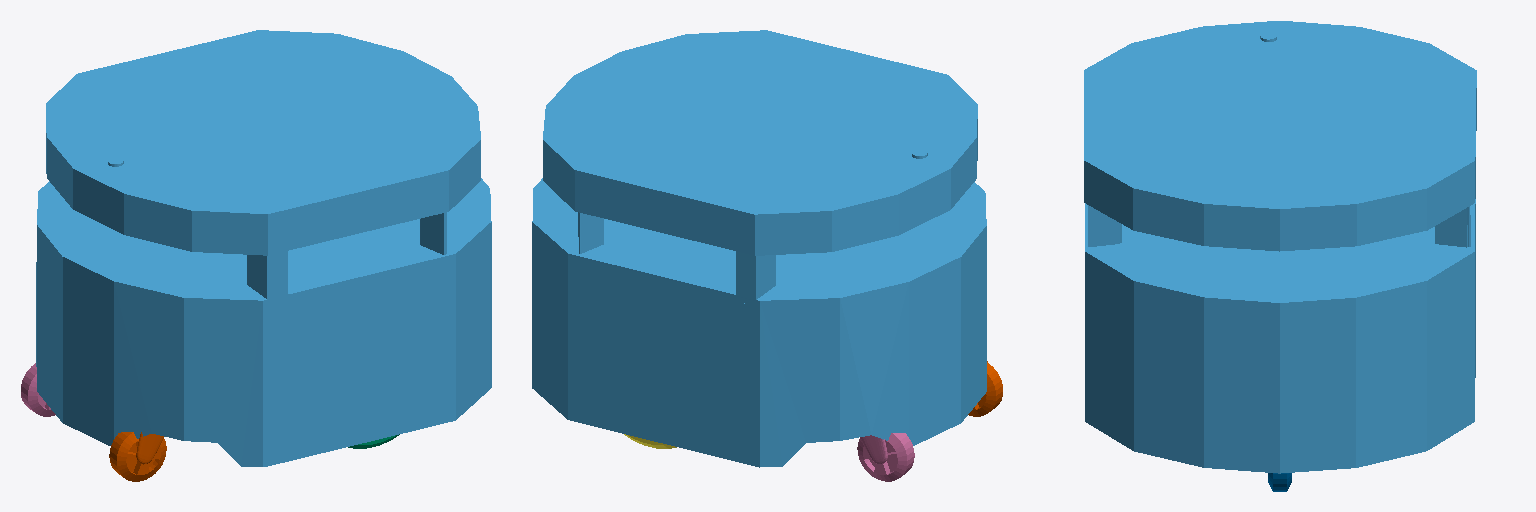
URDF robot description (patrolbot):
<?xml version="1.0" encoding="utf-8"?>
<!-- =================================================================================== -->
<!-- |    This document was autogenerated by xacro from patrolbot.xacro                | -->
<!-- |    EDITING THIS FILE BY HAND IS NOT RECOMMENDED                                 | -->
<!-- =================================================================================== -->
<robot name="patrolbot">
  <link name="base_footprint">
    </link>
  <joint name="base_footprint_joint" type="fixed">
    <origin rpy="0 0 0" xyz="0 0 0"/>
    <parent link="base_footprint"/>
    <child link="base_link"/>
  </joint>
  <link name="base_link">
    <inertial>
      <mass value="1"/>
      <origin rpy="0 0 0" xyz="0 0 0"/>
      <inertia ixx="0.001" ixy="0.0" ixz="0.001" iyy="1" iyz="0.0" izz="0.001"/>
    </inertial>
    <collision>
      <origin rpy="0 0 0" xyz="0 0 0"/>
      <geometry>
        <mesh filename="package://patrolbot_description/meshes/hull.stl"/>
      </geometry>
    </collision>
    <visual>
      <origin rpy="0 0 0" xyz="0 0 0"/>
      <geometry>
        <mesh filename="package://patrolbot_description/meshes/hull.stl"/>
      </geometry>
    </visual>
  </link>
  <link name="right_drive_wheel">
    <collision>
      <geometry>
        <mesh filename="package://patrolbot_description/meshes/right_wheel.stl"/>
      </geometry>
    </collision>
    <visual>
      <geometry>
        <mesh filename="package://patrolbot_description/meshes/right_wheel.stl"/>
      </geometry>
    </visual>
    <inertial>
      <mass value="1"/>
      <inertia ixx="0.001" ixy="0" ixz="0" iyy="0.001" iyz="0" izz="0.001"/>
    </inertial>
  </link>
  <joint name="right_drive_wheel_joint" type="continuous">
    <parent link="base_link"/>
    <child link="right_drive_wheel"/>
    <origin xyz="0.0685 -0.147 -0.138"/>
    <axis xyz="0 1 0"/>
    <dynamics damping="0.0" friction="0.0"/>
  </joint>
  <transmission name="right_drive_wheel_trans">
    <type>transmission_interface/SimpleTransmission</type>
    <joint name="right_drive_wheel_joint">
      <hardwareInterface>VelocityJointInterface</hardwareInterface>
    </joint>
    <actuator name="right_drive_wheel_motor">
      <mechanicalReducation>1</mechanicalReducation>
    </actuator>
  </transmission>
  <gazebo reference="right_drive_wheel">
    <mu1 value="200.0"/>
    <mu2 value="100.0"/>
    <kp value="10000000.0"/>
    <kd value="1.0"/>
  </gazebo>
  <link name="left_drive_wheel">
    <collision>
      <geometry>
        <mesh filename="package://patrolbot_description/meshes/left_wheel.stl"/>
      </geometry>
    </collision>
    <visual>
      <geometry>
        <mesh filename="package://patrolbot_description/meshes/left_wheel.stl"/>
      </geometry>
    </visual>
    <inertial>
      <mass value="1"/>
      <inertia ixx="0.001" ixy="0" ixz="0" iyy="0.001" iyz="0" izz="0.001"/>
    </inertial>
  </link>
  <joint name="left_drive_wheel_joint" type="continuous">
    <parent link="base_link"/>
    <child link="left_drive_wheel"/>
    <origin xyz="0.0685 0.147 -0.138"/>
    <axis xyz="0 1 0"/>
    <dynamics damping="0.0" friction="0.0"/>
  </joint>
  <transmission name="left_drive_wheel_trans">
    <type>transmission_interface/SimpleTransmission</type>
    <joint name="left_drive_wheel_joint">
      <hardwareInterface>VelocityJointInterface</hardwareInterface>
    </joint>
    <actuator name="left_drive_wheel_motor">
      <mechanicalReducation>1</mechanicalReducation>
    </actuator>
  </transmission>
  <gazebo reference="left_drive_wheel">
    <mu1 value="200.0"/>
    <mu2 value="100.0"/>
    <kp value="10000000.0"/>
    <kd value="1.0"/>
  </gazebo>
  <link name="front_caster_wheel">
    <collision>
      <geometry>
        <mesh filename="package://patrolbot_description/meshes/caster.stl"/>
      </geometry>
    </collision>
    <visual>
      <geometry>
        <mesh filename="package://patrolbot_description/meshes/caster.stl"/>
      </geometry>
    </visual>
    <inertial>
      <mass value="1"/>
      <inertia ixx="0.001" ixy="0" ixz="0" iyy="0.001" iyz="0" izz="0.001"/>
    </inertial>
  </link>
  <joint name="front_drive_wheel_joint" type="fixed">
    <origin xyz="0.2445 0 -0.1635"/>
    <parent link="base_link"/>
    <child link="front_caster_wheel"/>
  </joint>
  <gazebo reference="front_caster_wheel">
    <mu1 value="0.0001"/>
    <mu2 value="0.0001"/>
    <kp value="10000000.0"/>
    <kd value="1.0"/>
    <material>Gazebo/Grey</material>
  </gazebo>
  <link name="back_left_caster_wheel">
    <collision>
      <geometry>
        <mesh filename="package://patrolbot_description/meshes/caster.stl"/>
      </geometry>
    </collision>
    <visual>
      <geometry>
        <mesh filename="package://patrolbot_description/meshes/caster.stl"/>
      </geometry>
    </visual>
    <inertial>
      <mass value="1"/>
      <inertia ixx="0.001" ixy="0" ixz="0" iyy="0.001" iyz="0" izz="0.001"/>
    </inertial>
  </link>
  <joint name="back_left_drive_wheel_joint" type="fixed">
    <origin xyz="-0.2445 -0.111 -0.1635"/>
    <parent link="base_link"/>
    <child link="back_left_caster_wheel"/>
  </joint>
  <gazebo reference="back_left_caster_wheel">
    <mu1 value="0.0001"/>
    <mu2 value="0.0001"/>
    <kp value="10000000.0"/>
    <kd value="1.0"/>
    <material>Gazebo/Grey</material>
  </gazebo>
  <link name="back_right_caster_wheel">
    <collision>
      <geometry>
        <mesh filename="package://patrolbot_description/meshes/caster.stl"/>
      </geometry>
    </collision>
    <visual>
      <geometry>
        <mesh filename="package://patrolbot_description/meshes/caster.stl"/>
      </geometry>
    </visual>
    <inertial>
      <mass value="1"/>
      <inertia ixx="0.001" ixy="0" ixz="0" iyy="0.001" iyz="0" izz="0.001"/>
    </inertial>
  </link>
  <joint name="back_right_drive_wheel_joint" type="fixed">
    <origin xyz="-0.2445 0.111 -0.1635"/>
    <parent link="base_link"/>
    <child link="back_right_caster_wheel"/>
  </joint>
  <gazebo reference="back_right_caster_wheel">
    <mu1 value="0.0001"/>
    <mu2 value="0.0001"/>
    <kp value="10000000.0"/>
    <kd value="1.0"/>
    <material>Gazebo/Grey</material>
  </gazebo>
  <link name="laser">
    <inertial>
      <mass value="1.1"/>
      <origin xyz="0 0 0"/>
      <inertia ixx="0.00307156543804" ixy="0.0" ixz="0.0" iyy="0.00312849041527" iyz="0.0" izz="0.00196432421427"/>
    </inertial>
    <visual>
      <origin rpy="0 0 0" xyz="0 0 0"/>
      <geometry>
        <!-- Origin of this mesh is the focal point of the LIDAR. -->
        <mesh filename="package://lms1xx/meshes/sick-lms1xx.dae"/>
      </geometry>
    </visual>
    <collision>
      <origin rpy="0 0 0" xyz="0 0 -0.05"/>
      <geometry>
        <box size="0.105 0.1 0.1"/>
      </geometry>
    </collision>
  </link>
  <gazebo reference="laser">
    <turnGravityOff>true</turnGravityOff>
    <sensor name="laser" type="ray">
      <pose>0 0 0 0 0 0</pose>
      <visualize>false</visualize>
      <update_rate>50</update_rate>
      <ray>
        <scan>
          <horizontal>
            <samples>720</samples>
            <resolution>1</resolution>
            <min_angle>-2.35619</min_angle>
            <max_angle>2.35619</max_angle>
          </horizontal>
        </scan>
        <range>
          <min>0.1</min>
          <max>30.0</max>
          <resolution>0.01</resolution>
        </range>
        <noise>
          <type>gaussian</type>
          <mean>0.0</mean>
          <stddev>0.001</stddev>
        </noise>
      </ray>
      <plugin filename="libgazebo_ros_laser.so" name="gazebo_ros_laser">
        <topicName>scan</topicName>
        <frameName>laser</frameName>
        <robotNamespace>/</robotNamespace>
      </plugin>
    </sensor>
  </gazebo>
  <joint name="laser_joint" type="fixed">
    <origin rpy="0 0 0" xyz="0.192 0 0.2895"/>
    <parent link="base_link"/>
    <child link="laser"/>
  </joint>
  <gazebo>
    <plugin filename="libgazebo_ros_diff_drive.so" name="differential_drive_controller">
      <!-- Plugin update rate in Hz -->
      <updateRate>50</updateRate>
      <!-- Name of left joint, defaults to `left_joint` -->
      <leftJoint>left_drive_wheel_joint</leftJoint>
      <!-- Name of right joint, defaults to `right_joint` -->
      <rightJoint>right_drive_wheel_joint</rightJoint>
      <!-- The distance from the center of one wheel to the other, in meters, defaults to 0.34 m -->
      <wheelSeparation>0.294</wheelSeparation>
      <!-- Diameter of the wheels, in meters, defaults to 0.15 m -->
      <wheelDiameter>0.402</wheelDiameter>
      <!-- Wheel acceleration, in rad/s^2, defaults to 0.0 rad/s^2 -->
      <wheelAcceleration>1.0</wheelAcceleration>
      <!-- Maximum torque which the wheels can produce, in Nm, defaults to 5 Nm -->
      <wheelTorque>20</wheelTorque>
      <!-- Topic to receive geometry_msgs/Twist message commands, defaults to `cmd_vel` -->
      <commandTopic>cmd_vel</commandTopic>
      <!-- Topic to publish nav_msgs/Odometry messages, defaults to `odom` -->
      <odometryTopic>odom</odometryTopic>
      <!-- Odometry frame, defaults to `odom` -->
      <odometryFrame>odom</odometryFrame>
      <!-- Robot frame to calculate odometry from, defaults to `base_footprint` -->
      <robotBaseFrame>base_footprint</robotBaseFrame>
      <!-- Odometry source, 0 for ENCODER, 1 for WORLD, defaults to WORLD -->
      <odometrySource>1</odometrySource>
      <!-- Set to true to publish transforms for the wheel links, defaults to false -->
      <publishWheelTF>true</publishWheelTF>
      <!-- Set to true to publish transforms for the odometry, defaults to true -->
      <publishOdom>true</publishOdom>
      <!-- Set to true to publish sensor_msgs/JointState on /joint_states for the wheel joints, defaults to false -->
      <publishWheelJointState>true</publishWheelJointState>
      <!-- Set to true to swap right and left wheels, defaults to true -->
      <legacyMode>false</legacyMode>
    </plugin>
  </gazebo>
</robot>

--- Facts derived from the render (not from the file) ---
3 views of the same robot in one strip: view 1: azimuth 30°, elevation 25°; view 2: azimuth 150°, elevation 25°; view 3: azimuth 270°, elevation 25° (orthographic).
Model patrolbot with 8 links and 7 joints (2 continuous, 5 fixed), rooted at base_footprint, posed all joints at 0.
Links seen in each view (by area): view 1: base_link, back_left_caster_wheel, back_right_caster_wheel; view 2: base_link, back_right_caster_wheel, back_left_caster_wheel; view 3: base_link.
Boxes of the visible links, x1=… form: base_link: x1=36, y1=30, x2=491, y2=466; back_left_caster_wheel: x1=109, y1=432, x2=166, y2=481; back_right_caster_wheel: x1=21, y1=363, x2=55, y2=416; base_link: x1=532, y1=30, x2=986, y2=467; back_right_caster_wheel: x1=857, y1=433, x2=914, y2=481; back_left_caster_wheel: x1=968, y1=361, x2=1002, y2=416; base_link: x1=1084, y1=21, x2=1476, y2=473.
Size in the robot's own frame: 0.58 by 0.4809 by 0.4046 metres.
6 mesh visuals loaded from 5 distinct referenced files (4 binary STL); not drawn: 1 (reference not matched to a file when rendering).
